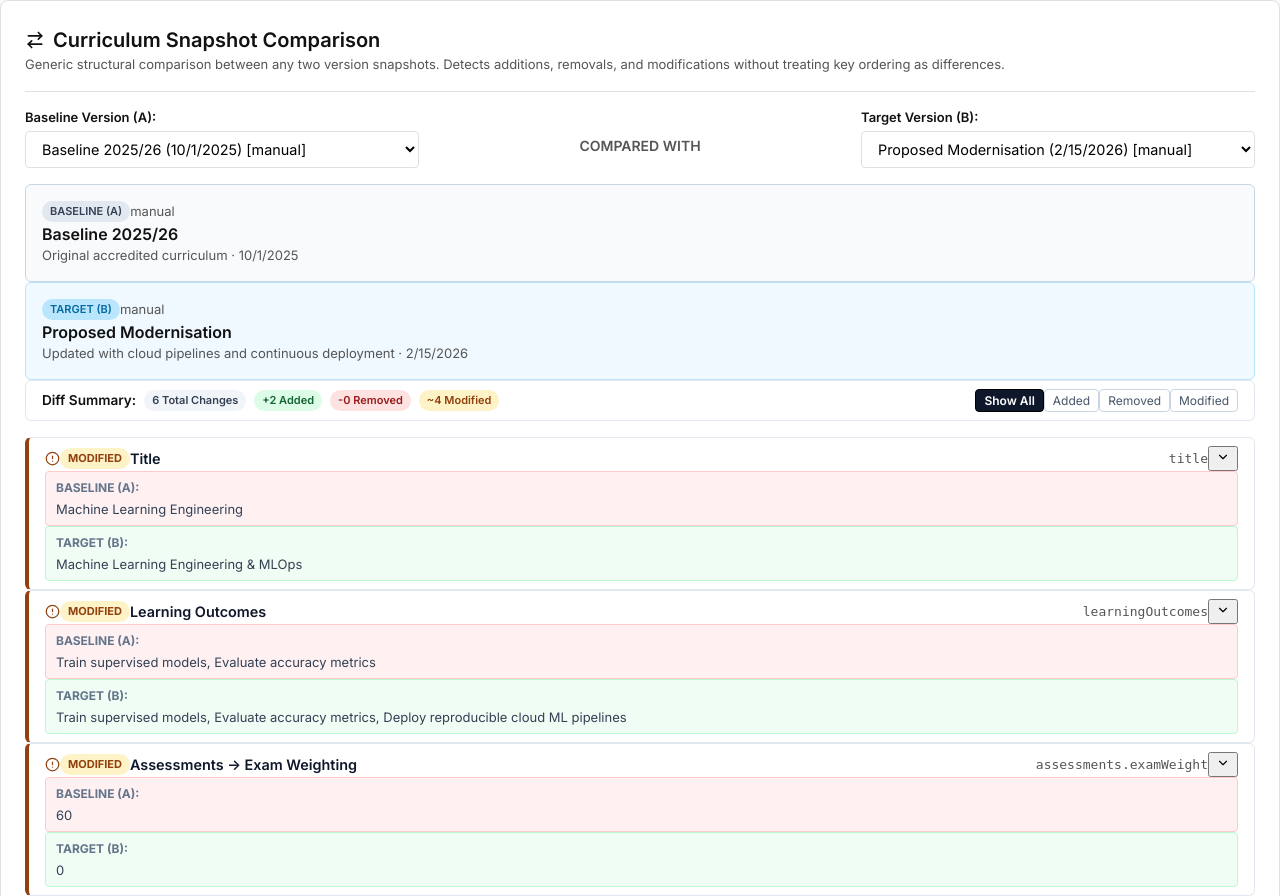
Batch 3 — Quality, Reporting and Standalone Readiness › Version Comparison Card (Generic Engine) › supports expanding detailed before/after raw values
Click the 1st button titled "Toggle full details" at coordinates (1223, 458), box [1208,446,1238,471]
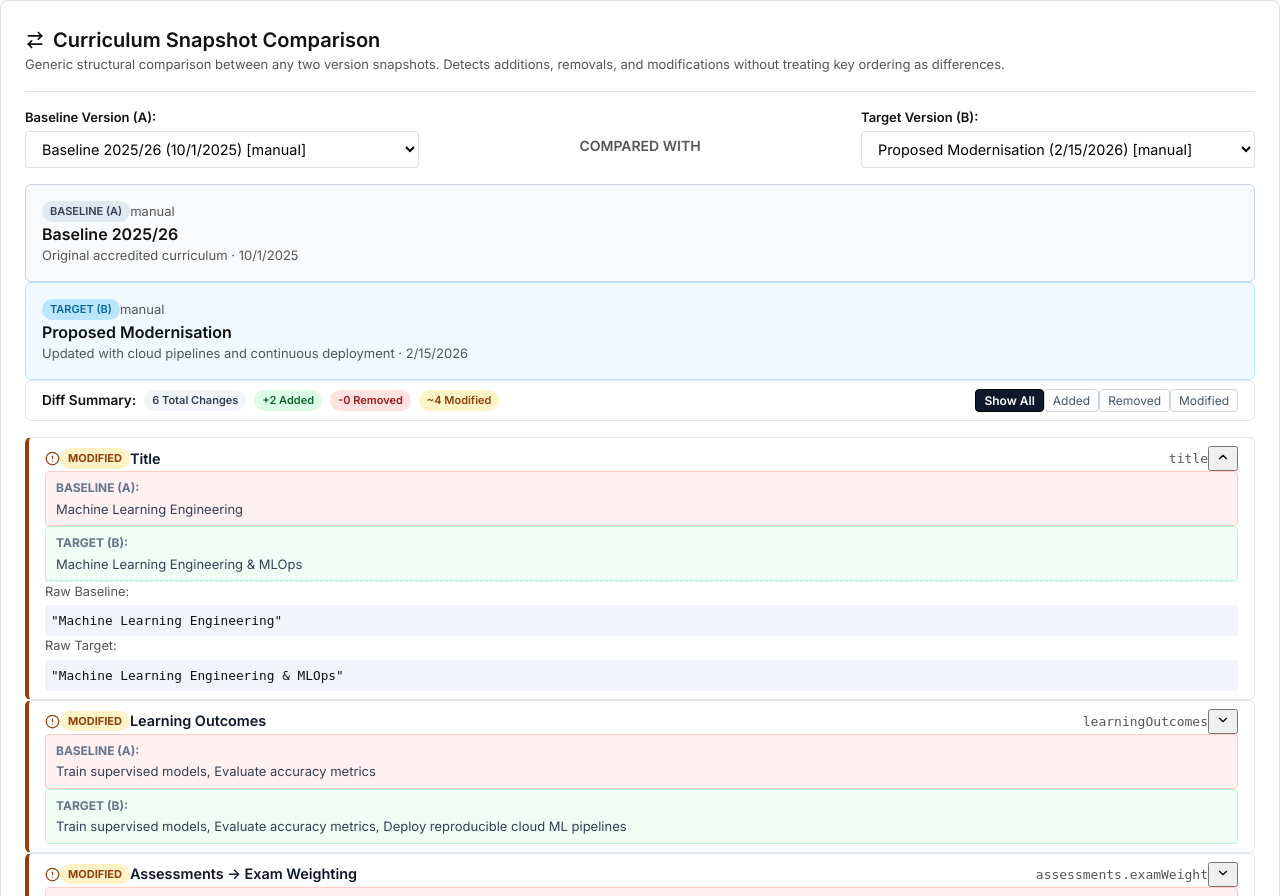
Check: the text "Raw Baseline:" is shown, box [45,584,129,599]
